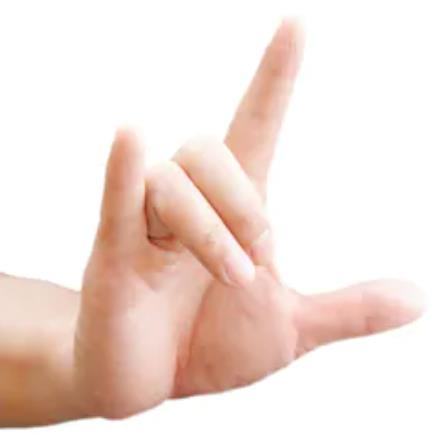back: (67, 14, 430, 417)
